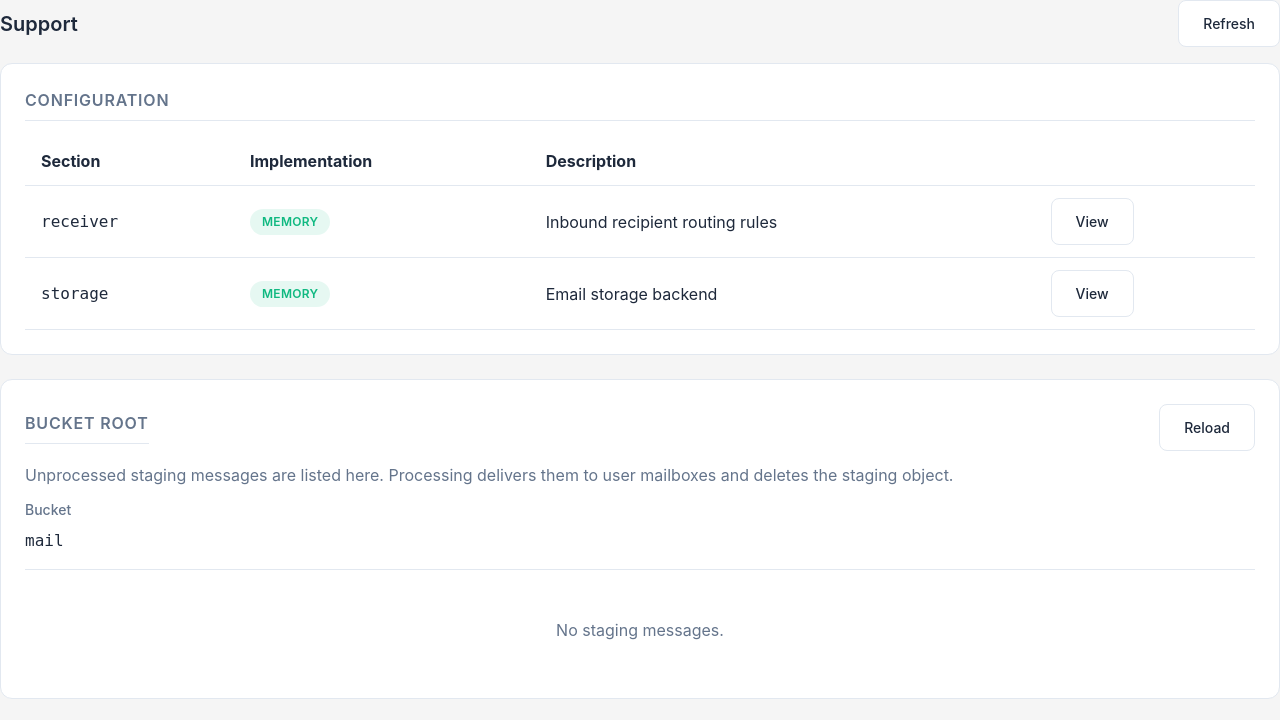
Scenario: Support receiver edit link › links to the receiver editor only from the receiver details
Click the button "View" in the row of "Email storage backend" at (1092, 294), box [1050,270,1134,317]
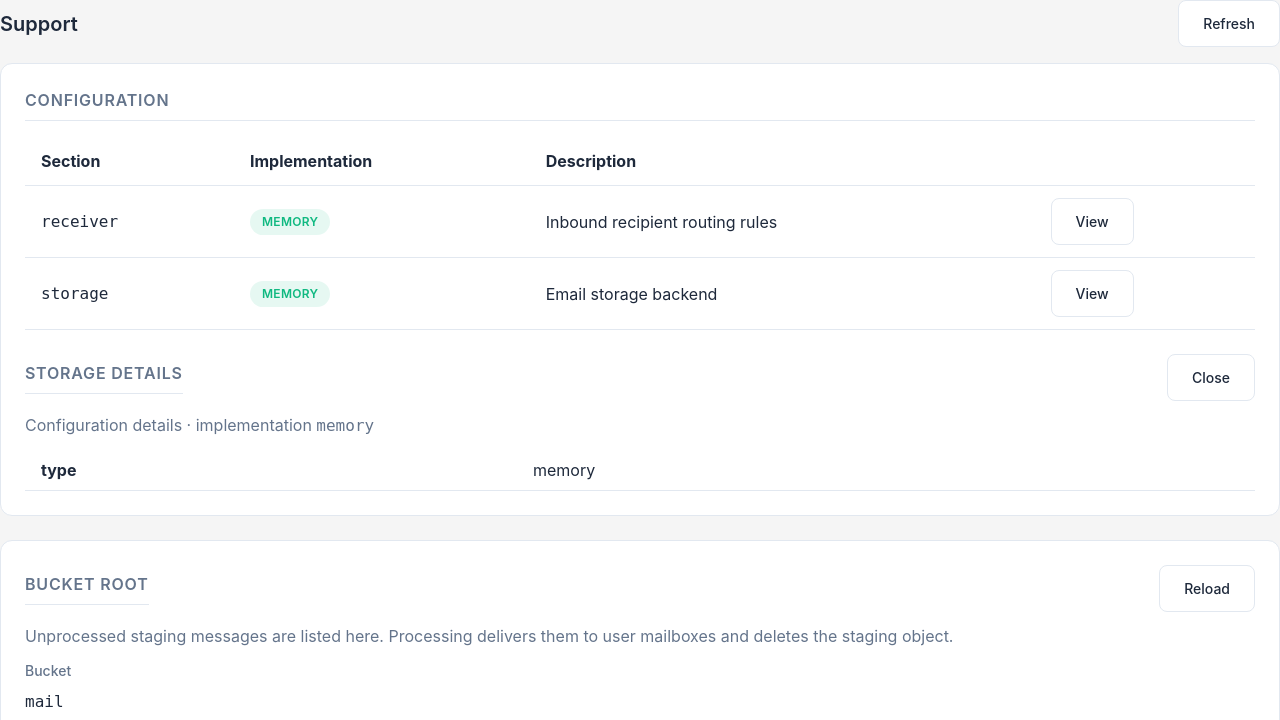
Click the button "Close" at (1211, 378), box [1167,354,1255,401]
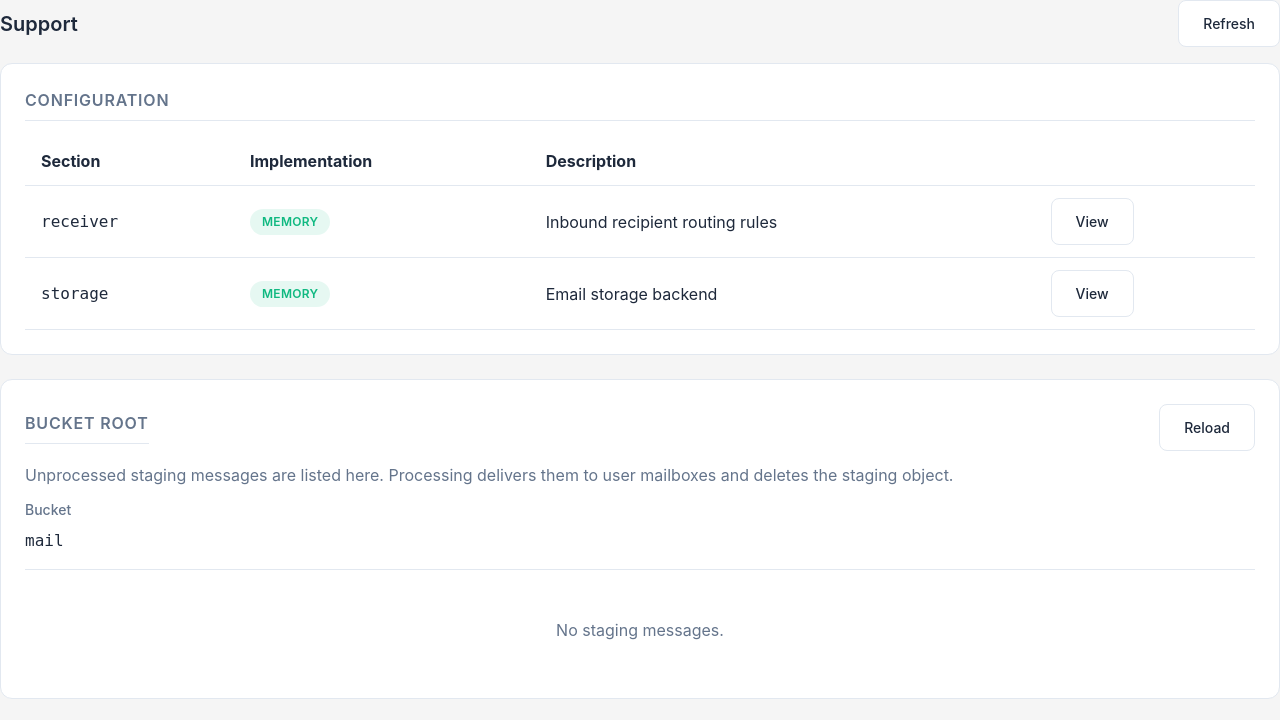
Click the button "View" in the row of "receiver" at (1092, 222), box [1050,198,1134,245]
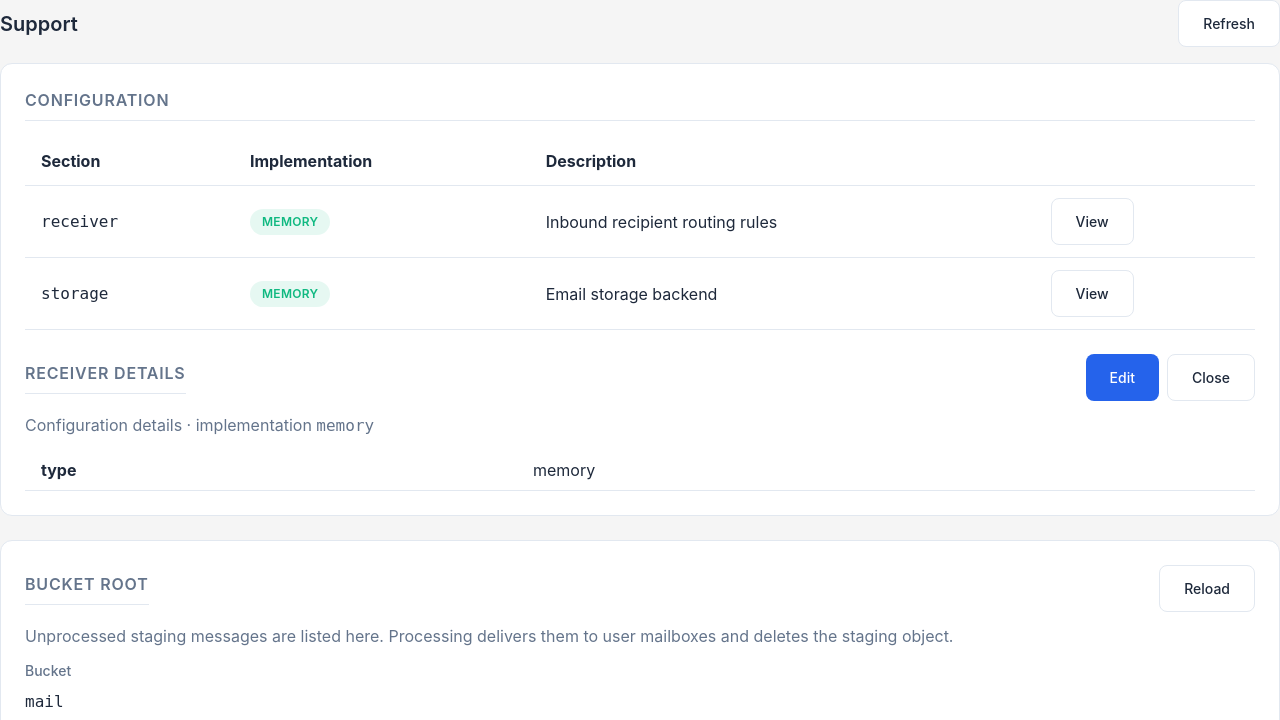
Now the link to "/support/receiver" reads "Edit", box [1086,354,1159,401]
